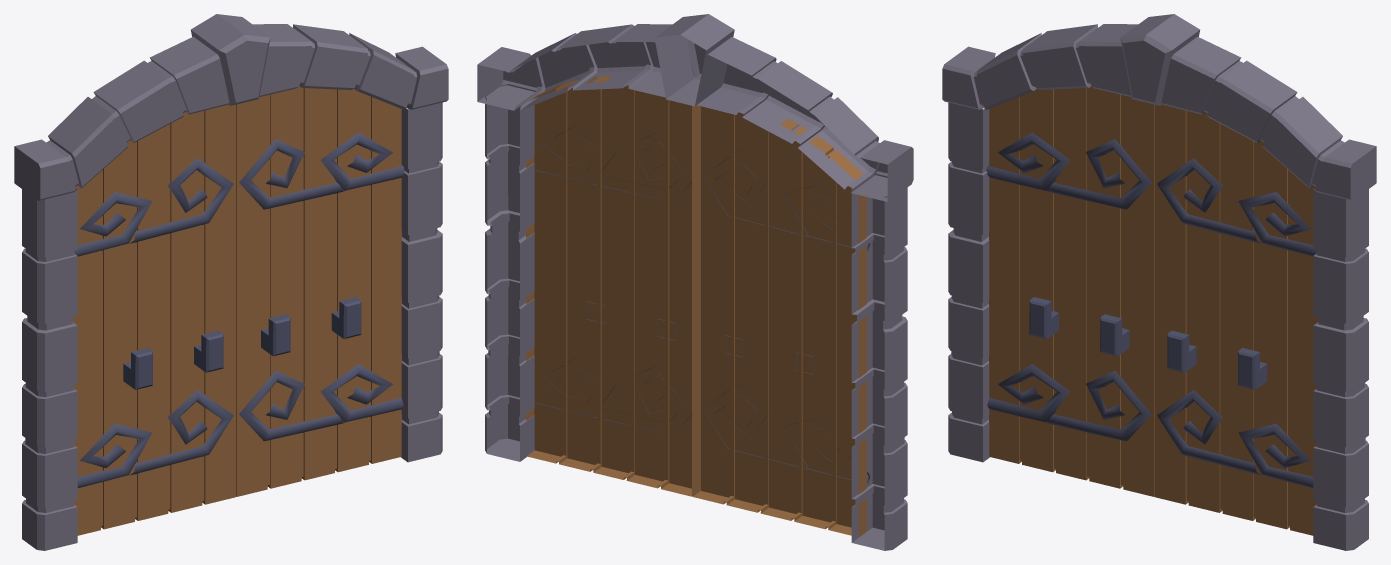
File: DoubleDoor.fbx
The picture shows the model from 3 angles, left to right: view 1: azimuth 30°, elevation 25°; view 2: azimuth 150°, elevation 25°; view 3: azimuth 330°, elevation 25°; orthographic projection.
Parts seen in each view (by area): view 1: DoubleDoorStoneArch, DoubleDoorLeft, DoubleDoorRight; view 2: DoubleDoorRight, DoubleDoorStoneArch, DoubleDoorLeft; view 3: DoubleDoorStoneArch, DoubleDoorRight, DoubleDoorLeft.
Part boxes in pixels (x1,y1,x2,y2): DoubleDoorStoneArch: (14,14,448,550); DoubleDoorLeft: (236,86,404,496); DoubleDoorRight: (72,104,235,535); DoubleDoorRight: (692,105,870,537); DoubleDoorStoneArch: (477,14,913,550); DoubleDoorLeft: (526,76,692,496); DoubleDoorStoneArch: (942,14,1376,550); DoubleDoorRight: (986,86,1154,496); DoubleDoorLeft: (1154,104,1318,535).
Bounding box in the file's own units: 359 × 395 × 50.05.
3 materials, 2 textured.
